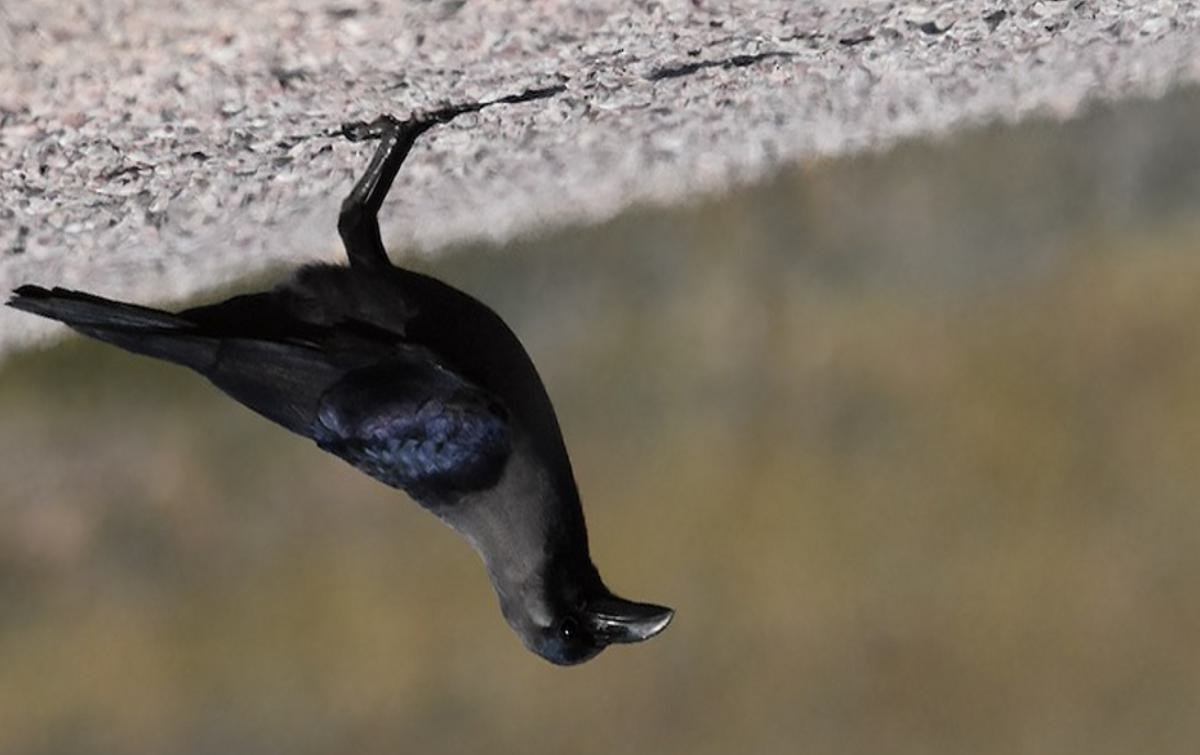crow: (26, 100, 676, 670)
